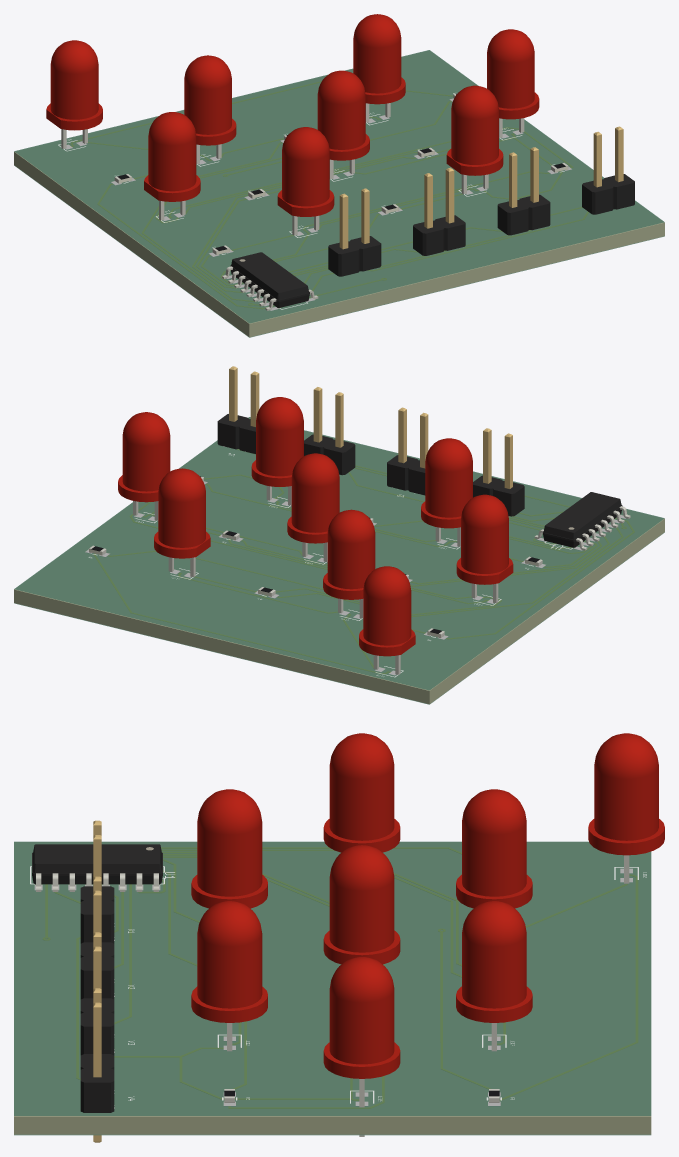
Rendered from shift-register.glb.
The picture shows the model from 3 angles, top to bottom: view 1: azimuth 30°, elevation 25°; view 2: azimuth 150°, elevation 25°; view 3: azimuth 270°, elevation 25°; orthographic projection. The views are drawn at different scales.
Parts seen in each view (by area): view 1: =>[0:1:1:14], =>[0:1:1:16], =>[0:1:1:3] (×8), =>[0:1:1:7] (×4), =>[0:1:1:9], =>[0:1:1:10], =>[0:1:1:11], =>[0:1:1:15], =>[0:1:1:13]; view 2: =>[0:1:1:14], =>[0:1:1:16], =>[0:1:1:3] (×8), =>[0:1:1:7] (×4), =>[0:1:1:9], =>[0:1:1:10], =>[0:1:1:11], =>[0:1:1:15], =>[0:1:1:13]; view 3: =>[0:1:1:16], =>[0:1:1:14], =>[0:1:1:3] (×8), =>[0:1:1:7] (×4), =>[0:1:1:9], =>[0:1:1:10], =>[0:1:1:15], =>[0:1:1:13], =>[0:1:1:11].
Boxes of the visible parts, x1=… form: =>[0:1:1:14]: x1=14, y1=50, x2=664, y2=323; =>[0:1:1:16]: x1=14, y1=51, x2=664, y2=337; =>[0:1:1:3] (×8): x1=46, y1=14, x2=539, y2=235; =>[0:1:1:7] (×4): x1=328, y1=126, x2=634, y2=276; =>[0:1:1:9]: x1=222, y1=252, x2=318, y2=310; =>[0:1:1:10]: x1=71, y1=82, x2=588, y2=308; =>[0:1:1:11]: x1=65, y1=98, x2=571, y2=310; =>[0:1:1:15]: x1=14, y1=165, x2=664, y2=337; =>[0:1:1:13]: x1=58, y1=93, x2=564, y2=309; =>[0:1:1:14]: x1=14, y1=417, x2=664, y2=690; =>[0:1:1:16]: x1=14, y1=418, x2=664, y2=704; =>[0:1:1:3] (×8): x1=118, y1=397, x2=513, y2=674; =>[0:1:1:7] (×4): x1=217, y1=366, x2=524, y2=516; =>[0:1:1:9]: x1=534, y1=492, x2=630, y2=550; =>[0:1:1:10]: x1=94, y1=449, x2=633, y2=673; =>[0:1:1:11]: x1=85, y1=481, x2=625, y2=675; =>[0:1:1:15]: x1=14, y1=532, x2=664, y2=704; =>[0:1:1:13]: x1=88, y1=446, x2=572, y2=677; =>[0:1:1:16]: x1=14, y1=842, x2=651, y2=1134; =>[0:1:1:14]: x1=14, y1=841, x2=651, y2=1115; =>[0:1:1:3] (×8): x1=191, y1=733, x2=664, y2=1136; =>[0:1:1:7] (×4): x1=80, y1=820, x2=114, y2=1142; =>[0:1:1:9]: x1=32, y1=844, x2=162, y2=891; =>[0:1:1:10]: x1=43, y1=848, x2=637, y2=1108; =>[0:1:1:15]: x1=14, y1=1134, x2=650, y2=1135; =>[0:1:1:13]: x1=30, y1=866, x2=646, y2=1108; =>[0:1:1:11]: x1=34, y1=868, x2=632, y2=1105.
Bounding box in the file's own units: 0.0491 × 0.0146 × 0.0492.
